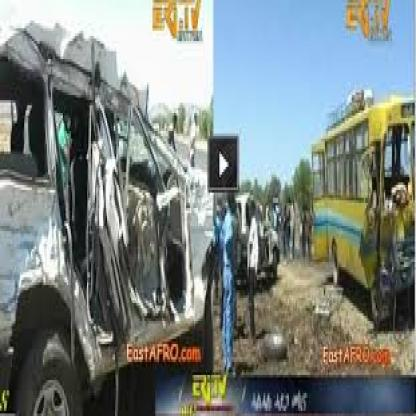accident: (2, 25, 191, 416), (298, 92, 416, 333)
